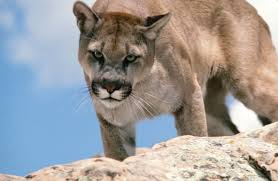Mountain Lion: (67, 2, 278, 132)
